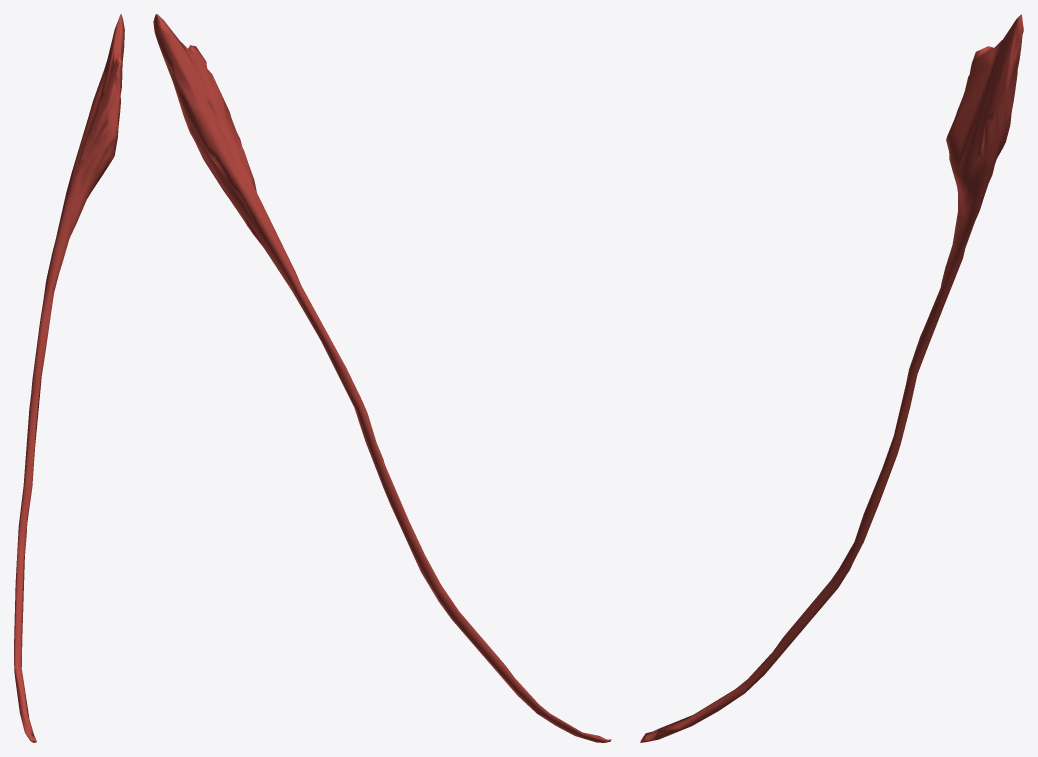
Rendered from musculos-extensor-indicis-r.glb.
3 views of the same model, side by side, from view 1: azimuth 30°, elevation 25°; view 2: azimuth 150°, elevation 25°; view 3: azimuth 270°, elevation 25° (orthographic). The views are drawn at different scales.
Visible parts, largest first — view 1: Extensor indicis.r; view 2: Extensor indicis.r; view 3: Extensor indicis.r.
Part boxes in pixels (bbox=[...]): Extensor indicis.r: bbox=[14, 14, 124, 742]; Extensor indicis.r: bbox=[153, 14, 611, 742]; Extensor indicis.r: bbox=[640, 14, 1023, 742].
Size of the model in its own units: 0.0807 by 0.206 by 0.0811.
